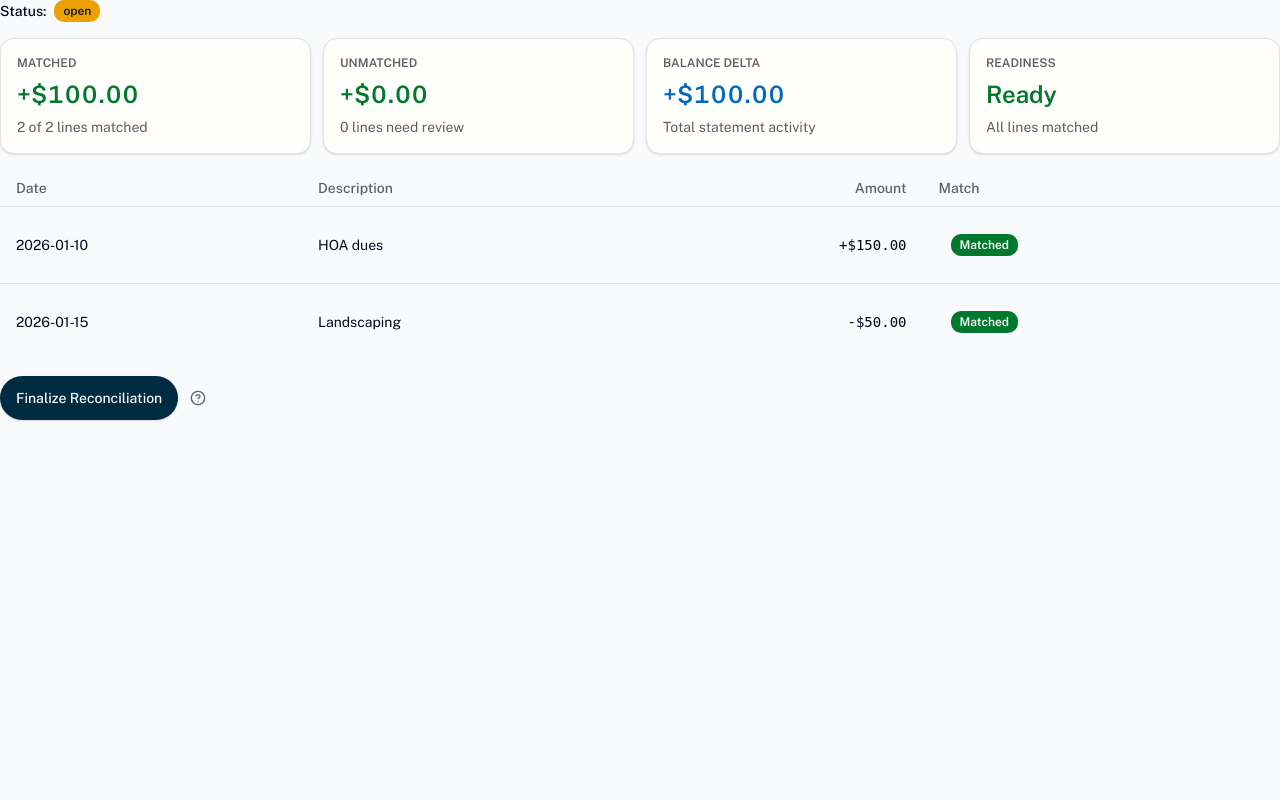
Test: ReconcileGrid › shows error when finalize fails
Click the button "Finalize Reconciliation".
click(89, 398)  # box [0,376,178,420]
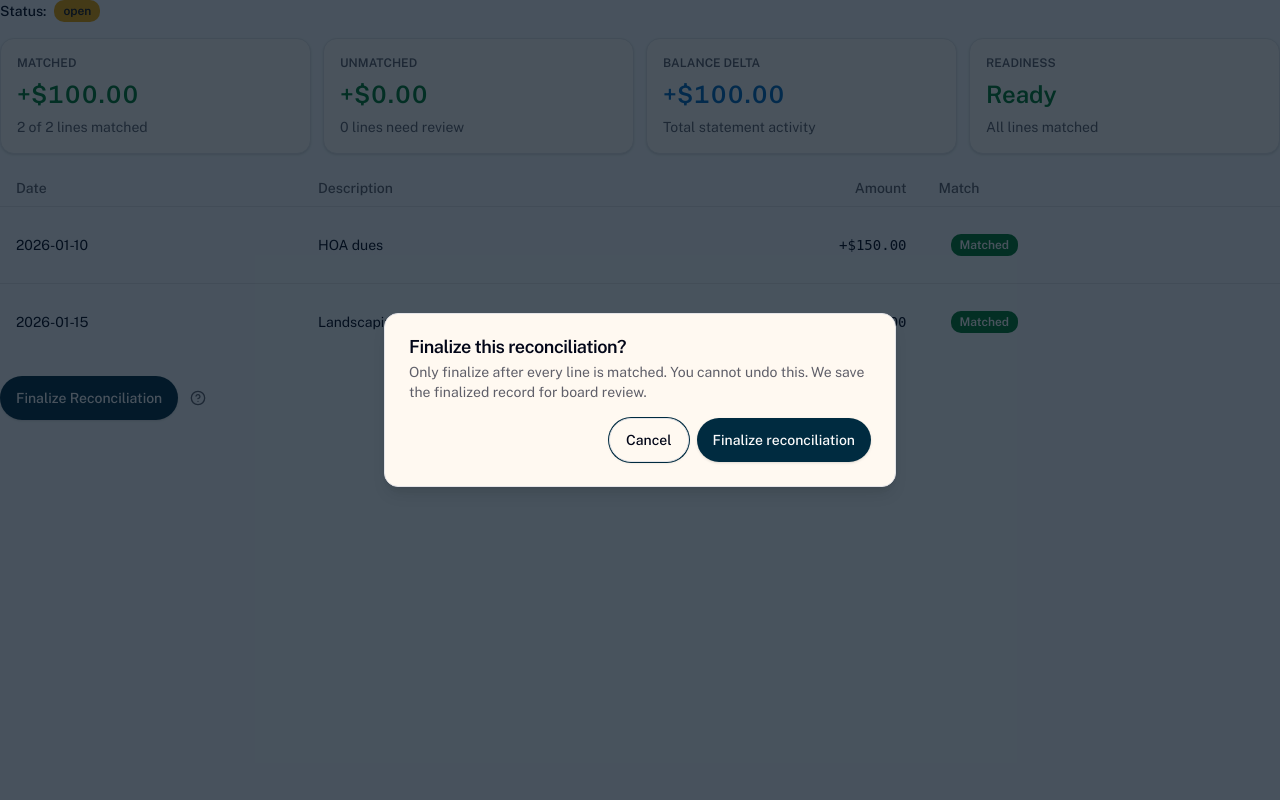
Click the button "Finalize reconciliation".
click(784, 440)  # box [697,418,871,462]
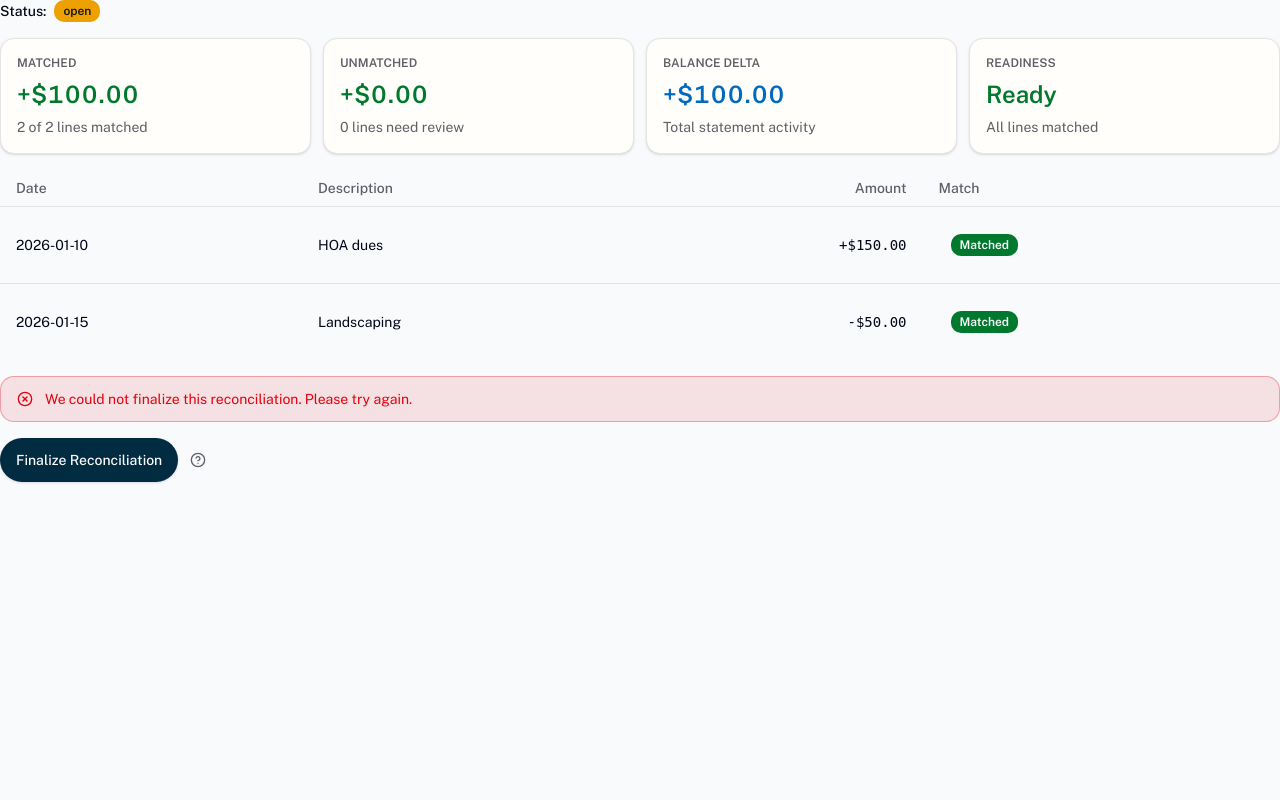
Check: the text "We could not finalize this reconciliation. Please try again." is shown, box [0,376,1279,422]
